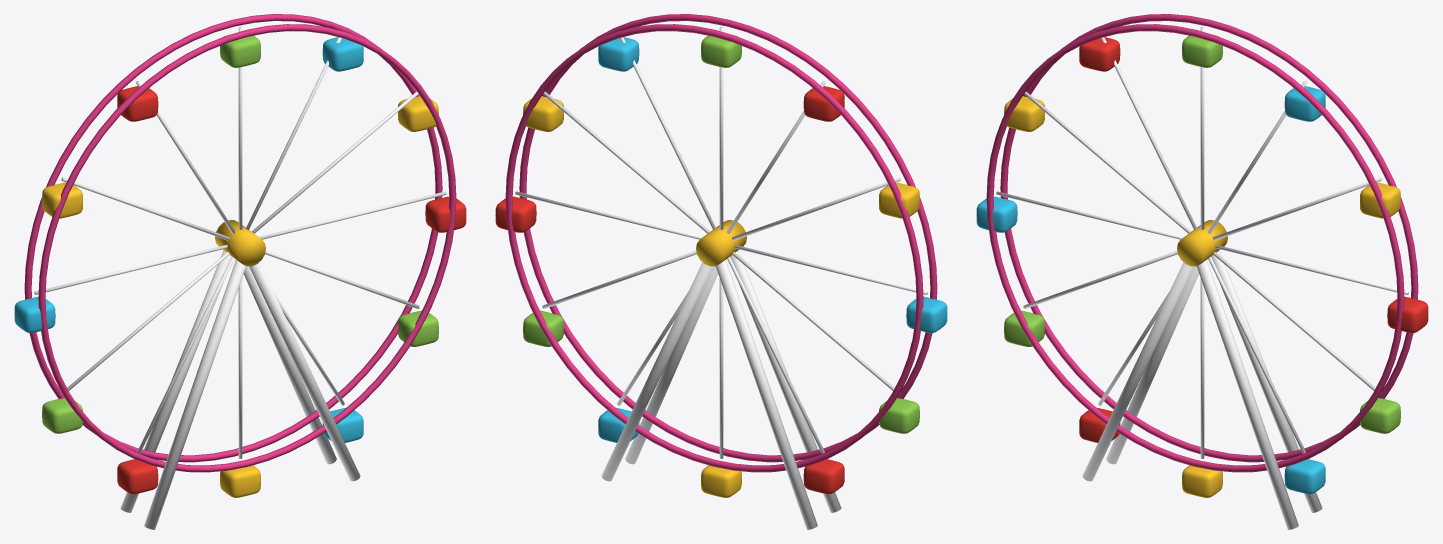
The model's file is ferris_wheel.glb.
3 views of the same model, side by side, from view 1: azimuth 30°, elevation 25°; view 2: azimuth 150°, elevation 25°; view 3: azimuth 330°, elevation 25° (orthographic).
Parts seen in each view (by area): view 1: Wheel, Stand; view 2: Wheel, Stand; view 3: Wheel, Stand.
Part boxes in pixels (x1,y1,x2,y2): Wheel: [14, 14, 466, 497]; Stand: [120, 250, 360, 529]; Wheel: [495, 14, 947, 497]; Stand: [601, 250, 841, 529]; Wheel: [976, 14, 1428, 497]; Stand: [1082, 250, 1322, 529].
Bounding box in the file's own units: 12.9 × 13.14 × 1.49.
